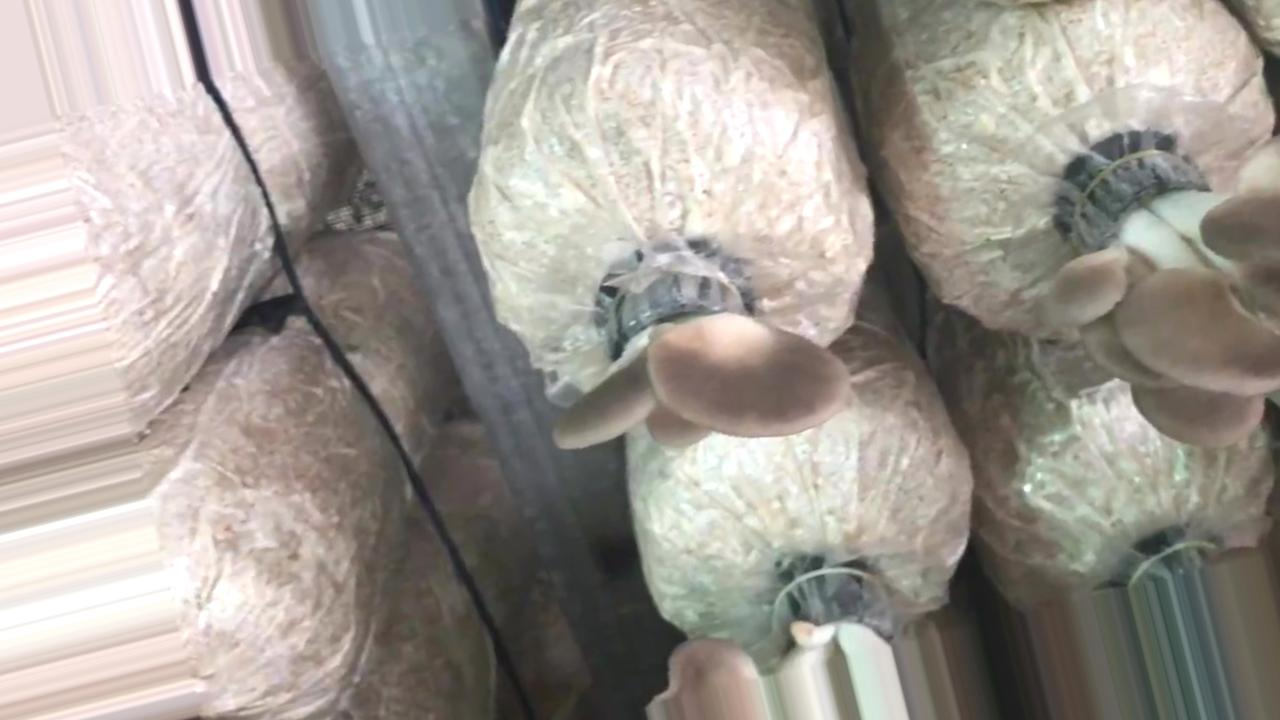nam: (1045, 139, 1280, 449), (552, 248, 849, 453)
